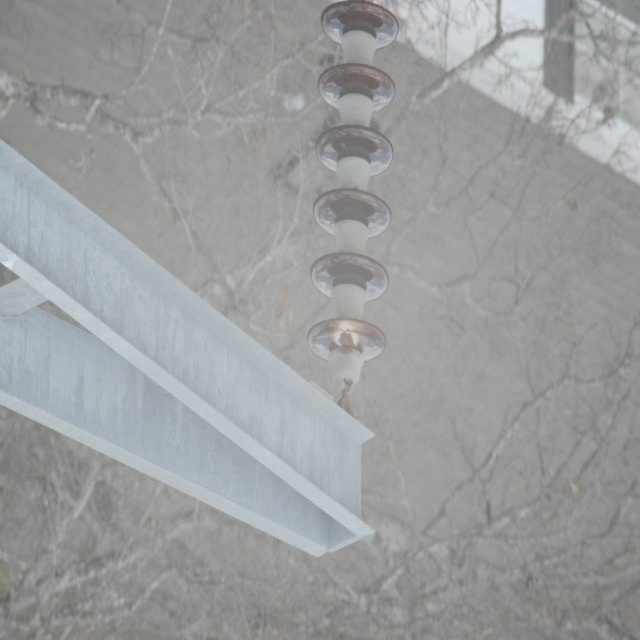insulator: (307, 0, 397, 365)
